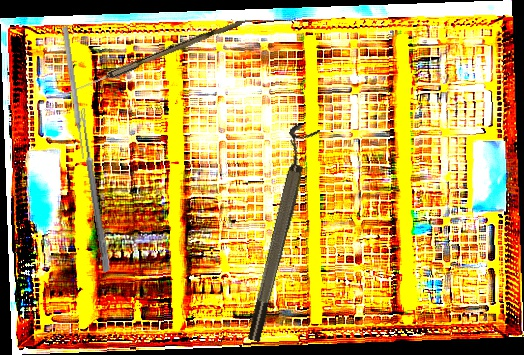Fixation Ring: (235, 122, 320, 344)
Pusher: (60, 26, 88, 160)
Surgical Spoon: (59, 16, 243, 101), (77, 107, 112, 273)
